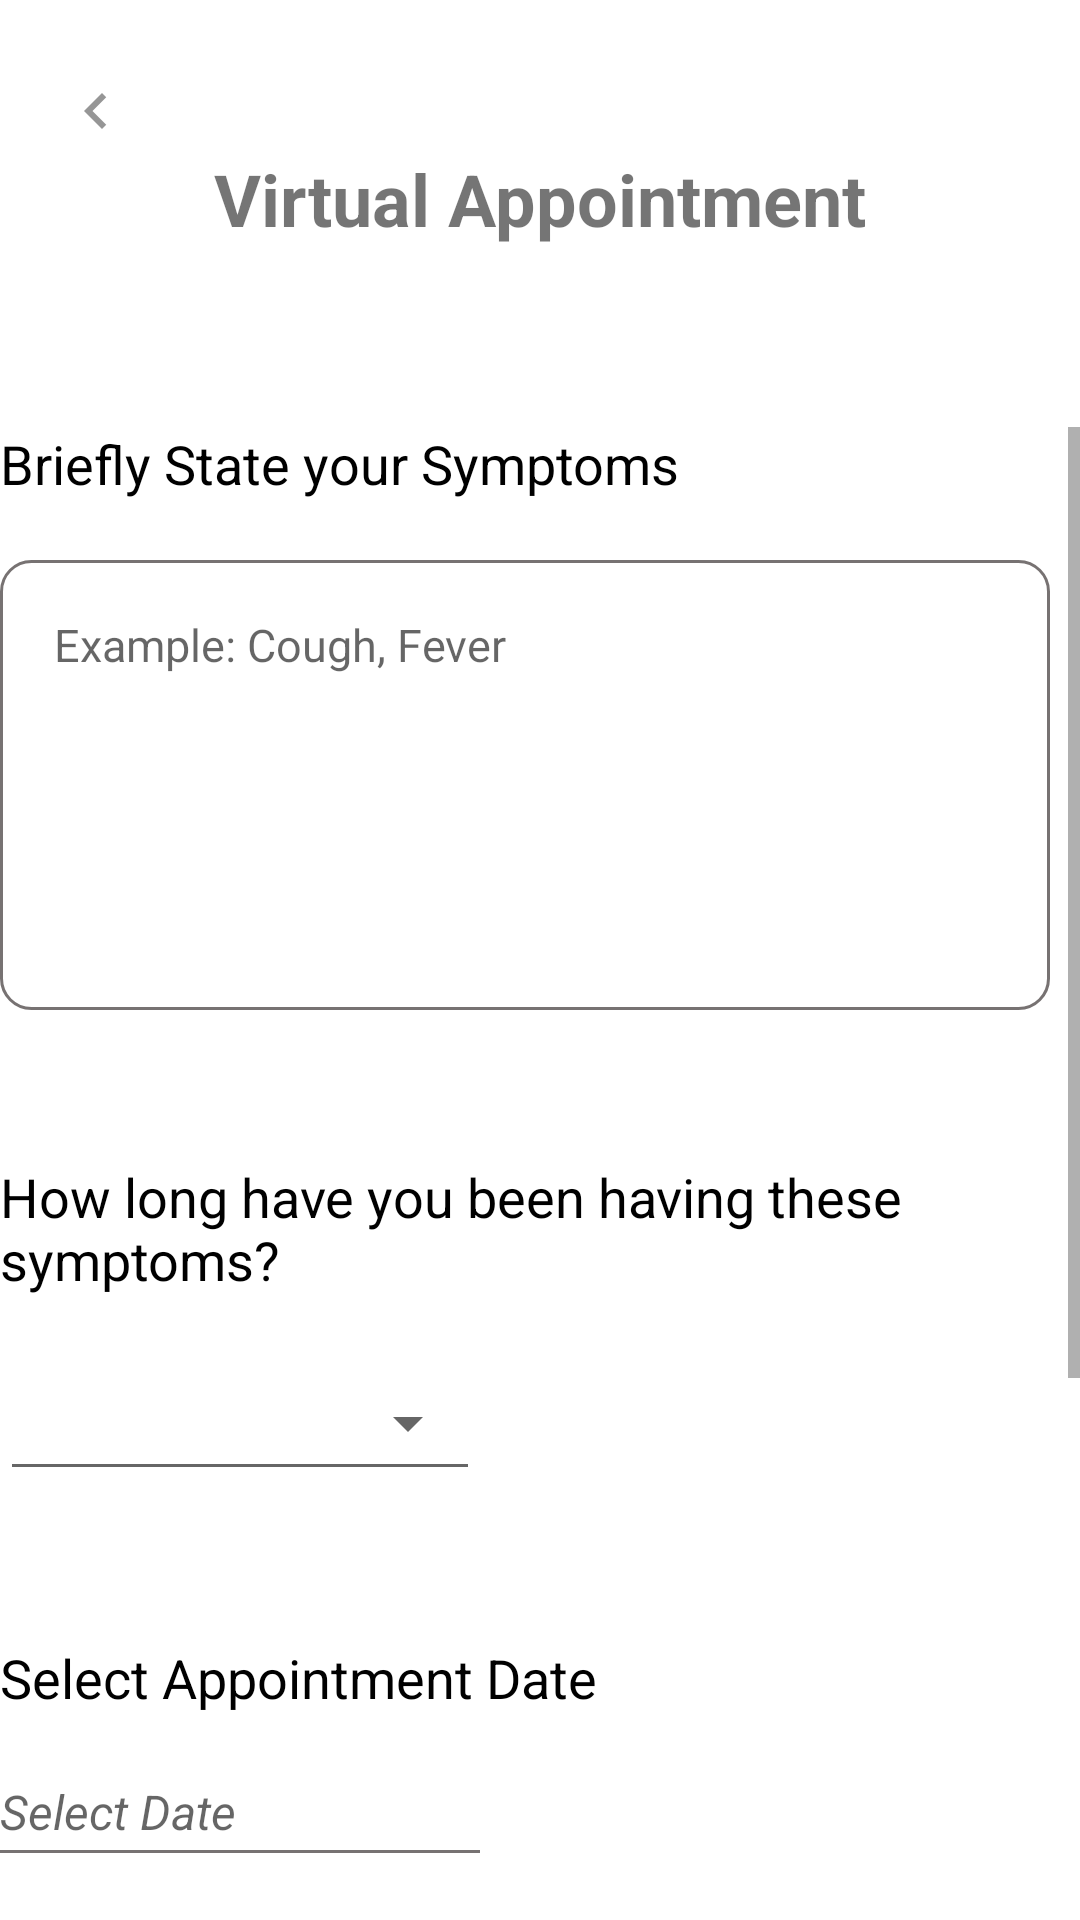

Locate icon controls on the screen. Image size 1080px x 1920px, boxes as (x1, y1, x2, y2).
back: (84, 93, 106, 129)
